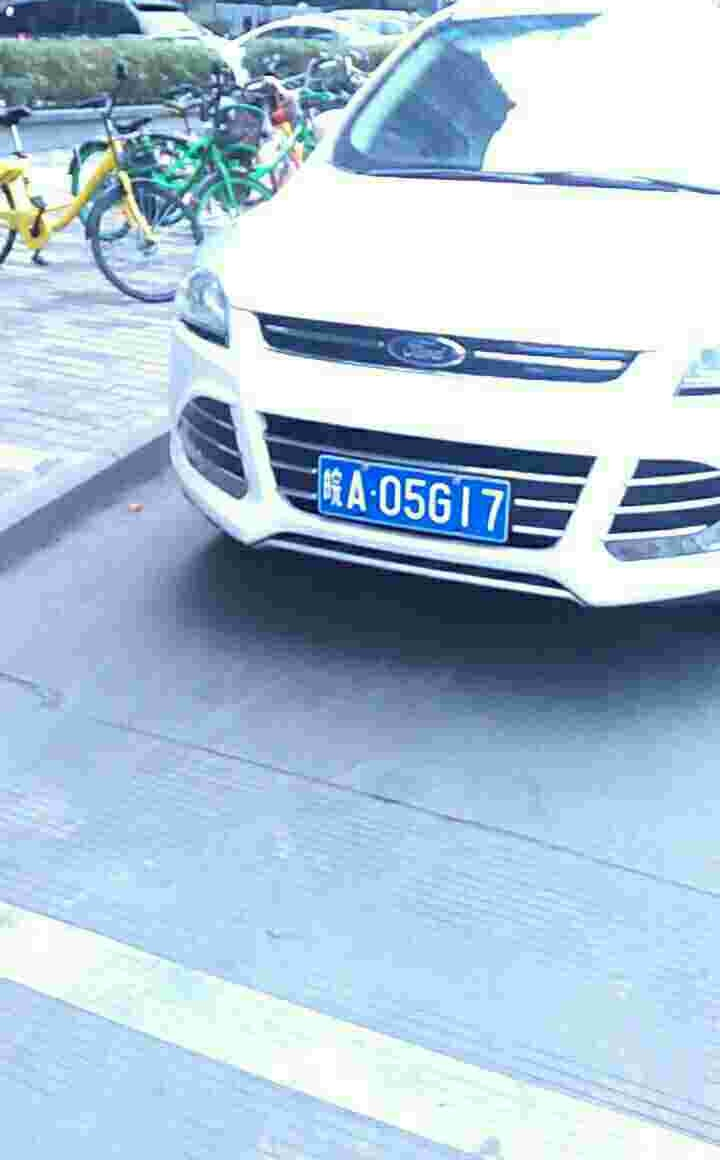plate: (315, 451, 513, 546)
